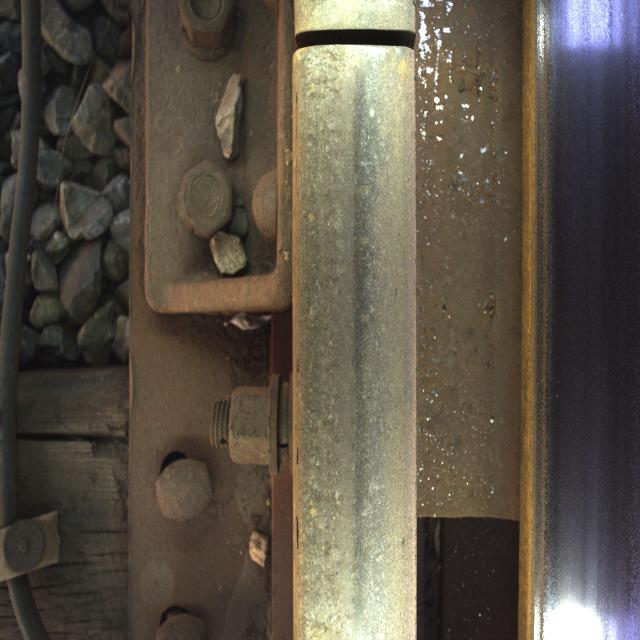spalling: (280, 0, 439, 85)
